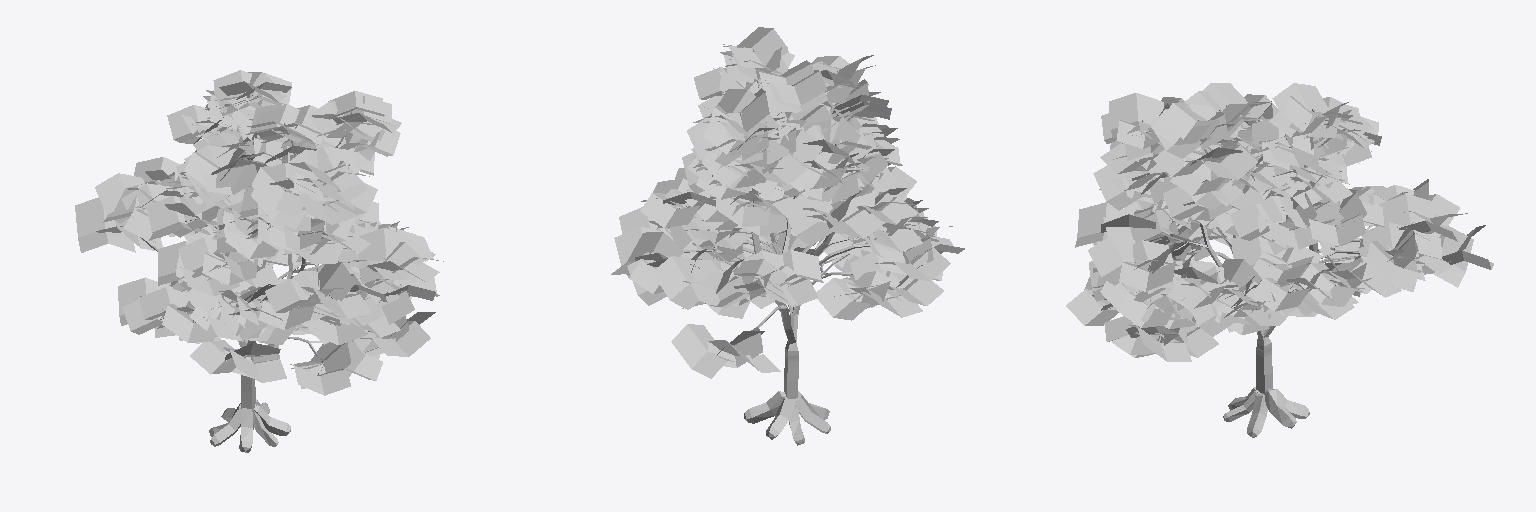
File: sonnereat.obj
The picture shows the model from 3 angles: view 1: azimuth 30°, elevation 25°; view 2: azimuth 150°, elevation 25°; view 3: azimuth 270°, elevation 25°; orthographic projection.
Parts seen in each view (by area): view 1: Sonnerat; view 2: Sonnerat; view 3: Sonnerat.
Boxes of the visible parts, x1=… form: Sonnerat: x1=75, y1=70, x2=443, y2=452; Sonnerat: x1=611, y1=27, x2=964, y2=445; Sonnerat: x1=1066, y1=83, x2=1493, y2=437.
Size of the model in its own units: 0.9316 by 1.07 by 1.18.